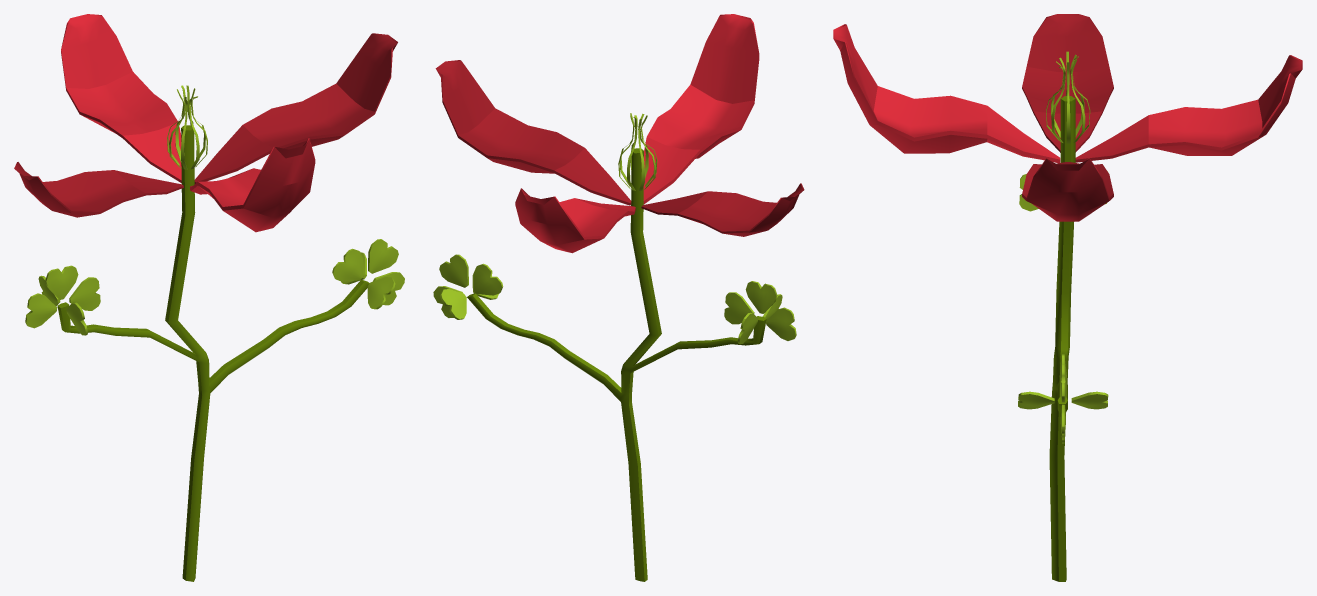
Rendered from Planta_Aberta.fbx.
3 views of the same model, side by side, from view 1: azimuth 30°, elevation 25°; view 2: azimuth 150°, elevation 25°; view 3: azimuth 270°, elevation 25° (orthographic). The views are drawn at different scales.
Parts seen in each view (by area): view 1: pCube20, pCube23, pCube1, pCube22, pCube21, pCube3, pCube10, pCube2, pCube7, pCube8, pCube6; view 2: pCube22, pCube23, pCube1, pCube20, pCube21, pCube2, pCube3, pCube10, pCube7, pCube8, pCube5; view 3: pCube22, pCube20, pCube21, pCube1, pCube23.
Part boxes in pixels (x1,y1,x2,y2): pCube20: [61, 14, 181, 182]; pCube23: [194, 33, 397, 183]; pCube1: [57, 125, 369, 581]; pCube22: [190, 138, 315, 232]; pCube21: [14, 162, 183, 217]; pCube3: [368, 239, 398, 273]; pCube10: [45, 265, 78, 299]; pCube2: [332, 248, 362, 281]; pCube7: [25, 293, 57, 328]; pCube8: [69, 277, 100, 310]; pCube6: [367, 277, 395, 309]; pCube22: [643, 14, 759, 204]; pCube23: [435, 60, 631, 205]; pCube1: [467, 148, 766, 581]; pCube20: [515, 188, 635, 253]; pCube21: [641, 183, 804, 236]; pCube2: [473, 263, 503, 295]; pCube3: [439, 254, 468, 287]; pCube10: [745, 281, 777, 313]; pCube7: [766, 307, 796, 340]; pCube8: [724, 292, 754, 324]; pCube5: [440, 289, 466, 319]; pCube22: [833, 24, 1060, 163]; pCube20: [1075, 55, 1302, 162]; pCube21: [1022, 14, 1113, 152]; pCube1: [1049, 96, 1075, 581]; pCube23: [1022, 158, 1113, 221].
Size of the model in its own units: 1502 by 1910 by 1484.
